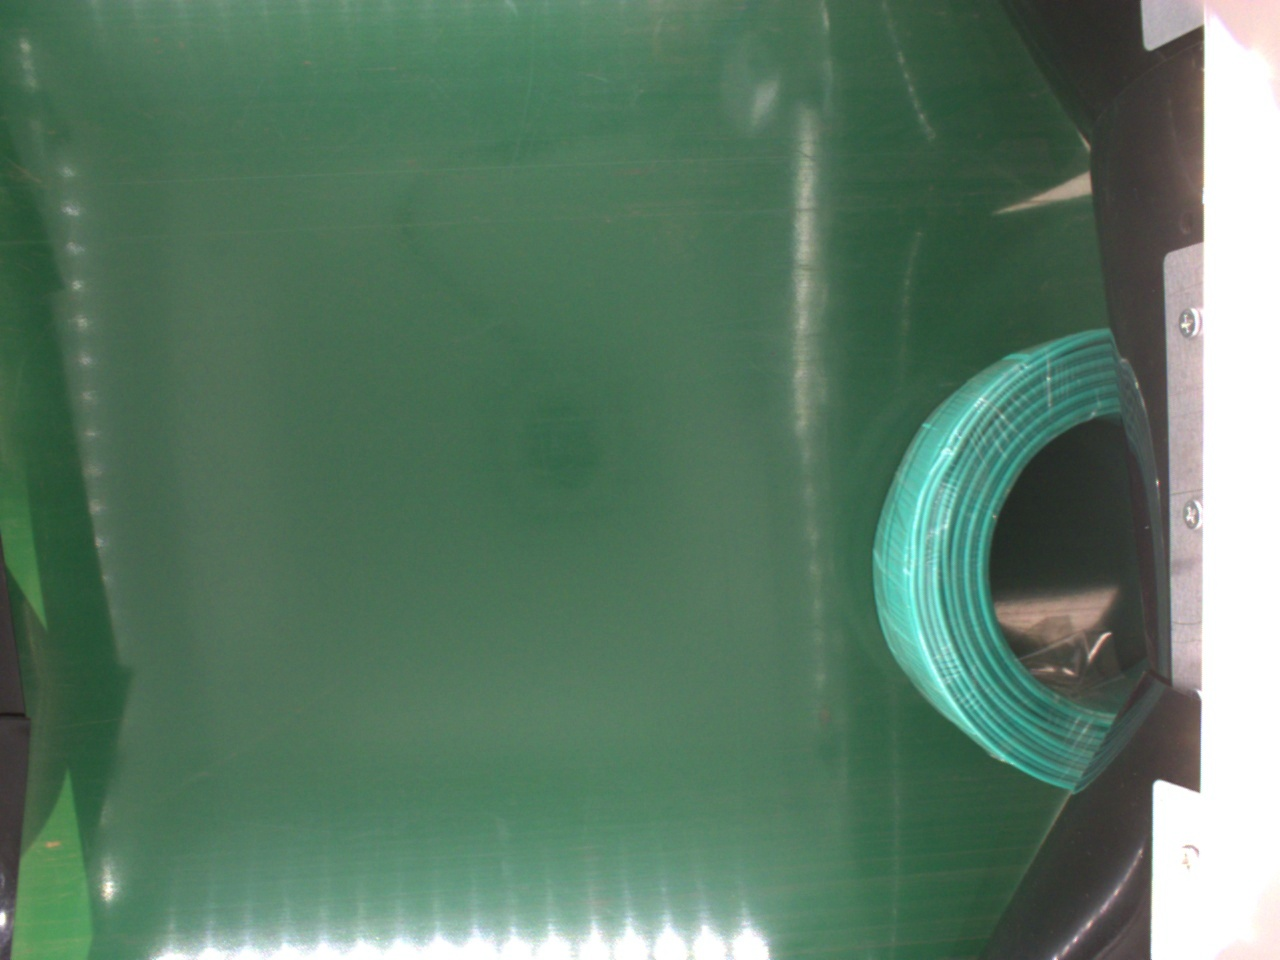green: (877, 328, 1148, 782)
